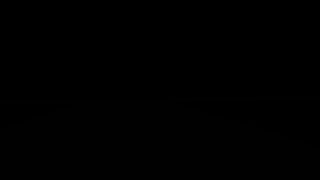turn_left: (171, 65, 183, 77)
